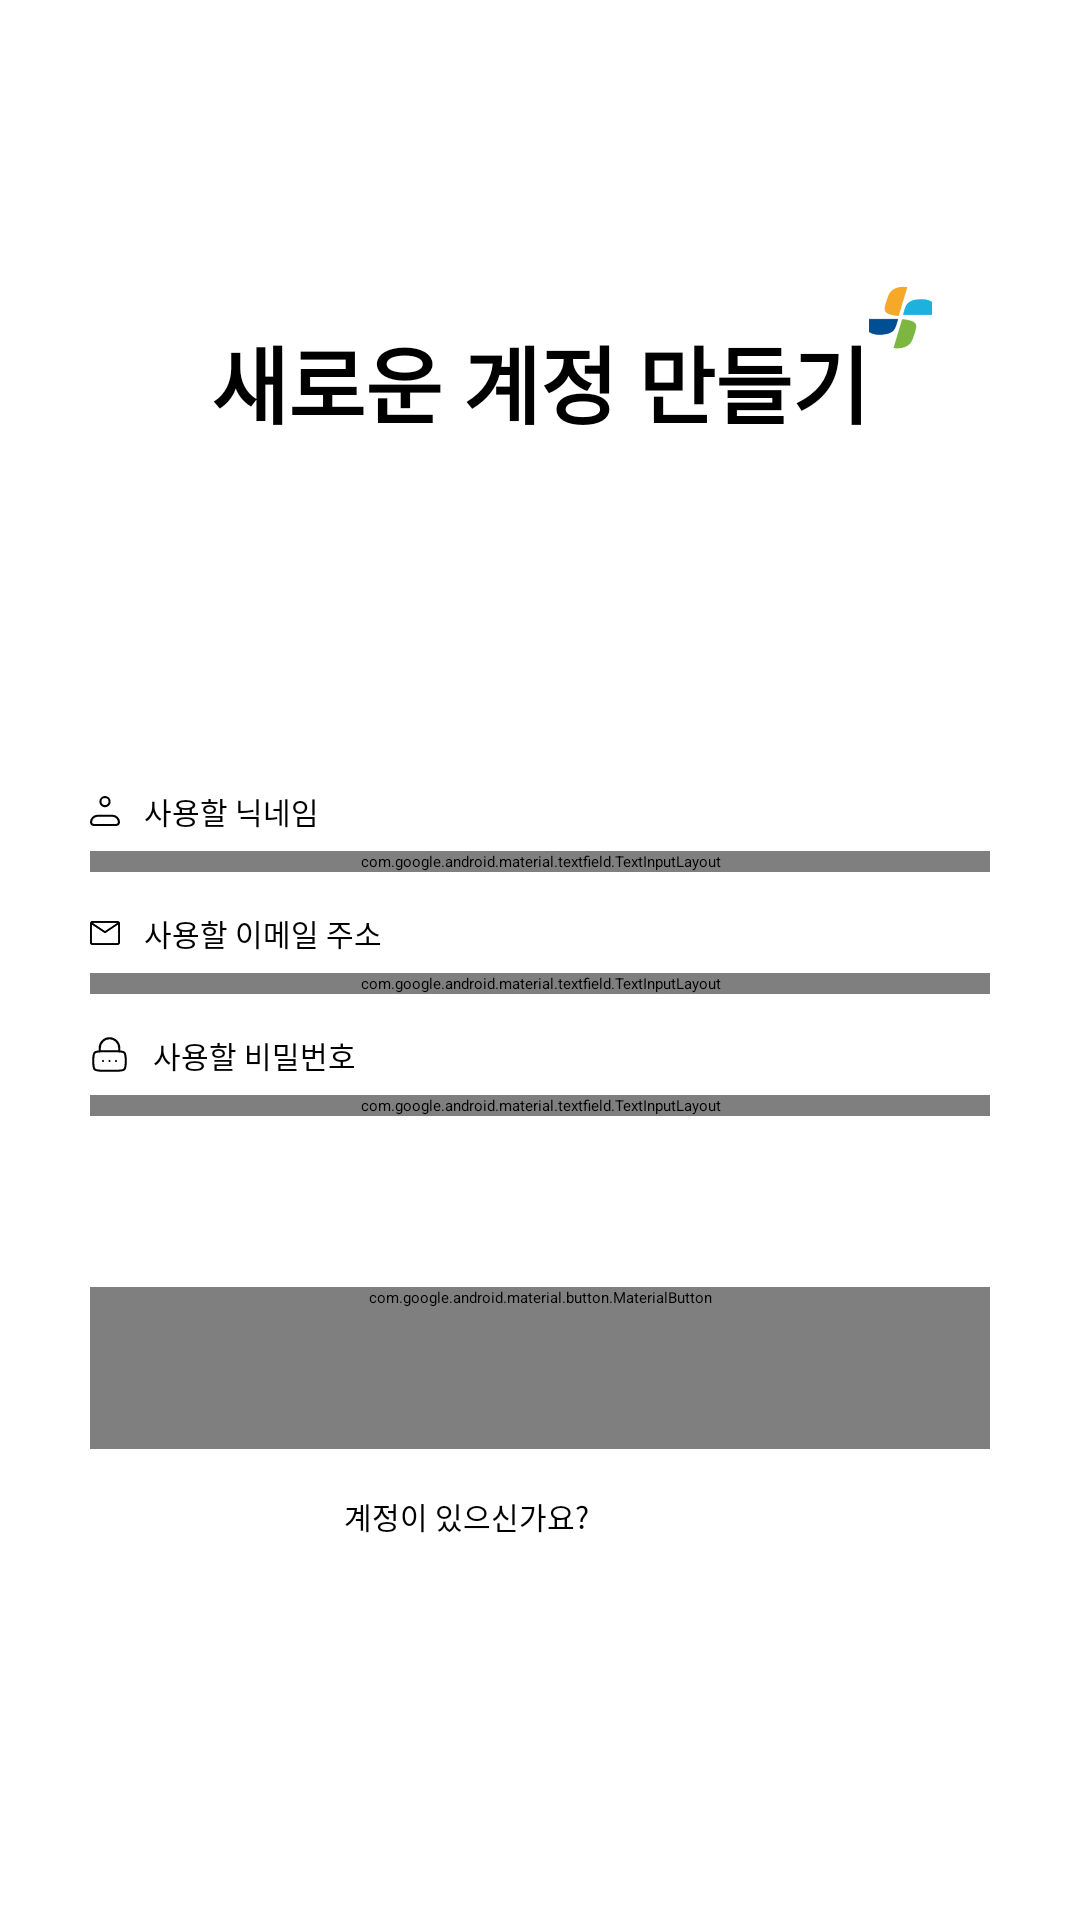

Screen size 1080px x 1920px. Icon name, then its box in pixels as [x1,y1,x2,y2]:
email: [90,921,120,945]
lock: [92,1037,127,1072]
person: [90,796,120,826]
